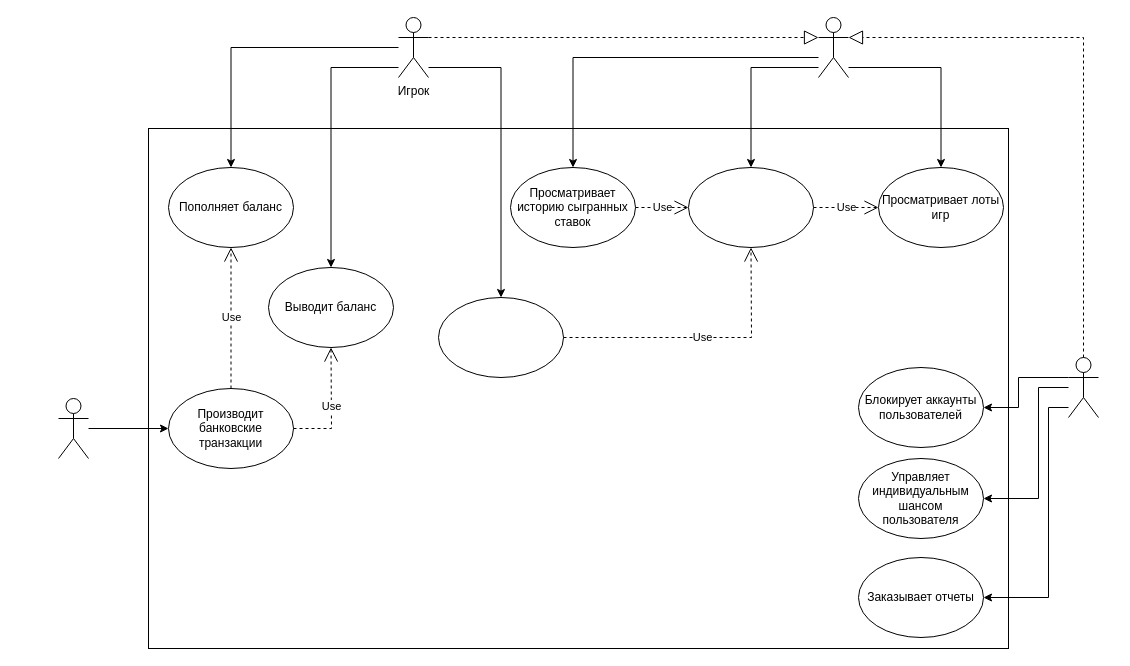
This 1130x666 diagram has some shape labels left out. The centre of each missing label's shape, as x and y in pixels:
Банковская система: the point at 73,428
Выбирает лот: the point at 751,207
Делает ставку в лоте: the point at 501,337
Менеджер: the point at 1083,387
Пользователь: the point at 833,47
